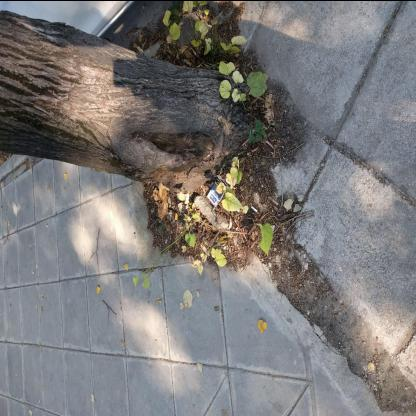karton: (206, 174, 228, 206)
